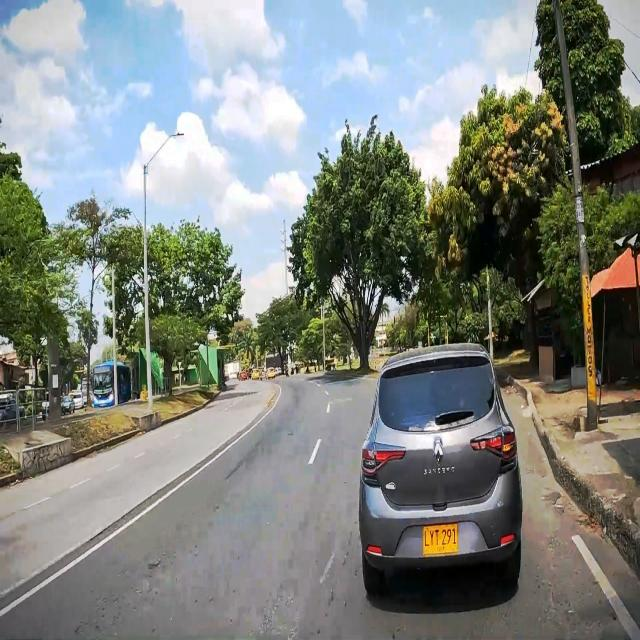license_plate: (422, 522, 458, 556)
